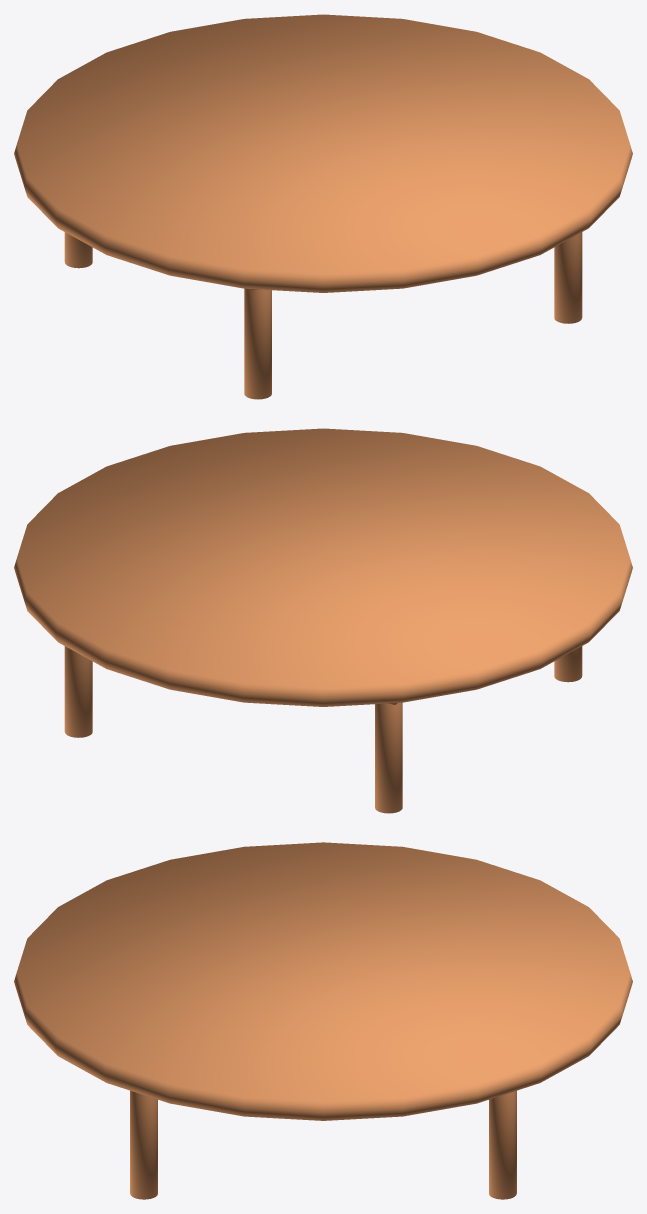
File: RoundTable.fbx
The picture shows the model from 3 angles, top to bottom: view 1: azimuth 30°, elevation 25°; view 2: azimuth 150°, elevation 25°; view 3: azimuth 270°, elevation 25°; orthographic projection.
Parts seen in each view (by area): view 1: Table; view 2: Table; view 3: Table.
Boxes of the visible parts, x1,y1,x2,y2 form: Table: (14,14,632,399); Table: (14,428,632,813); Table: (14,842,632,1199).
Size of the model in its own units: 206 by 53.61 by 206.
